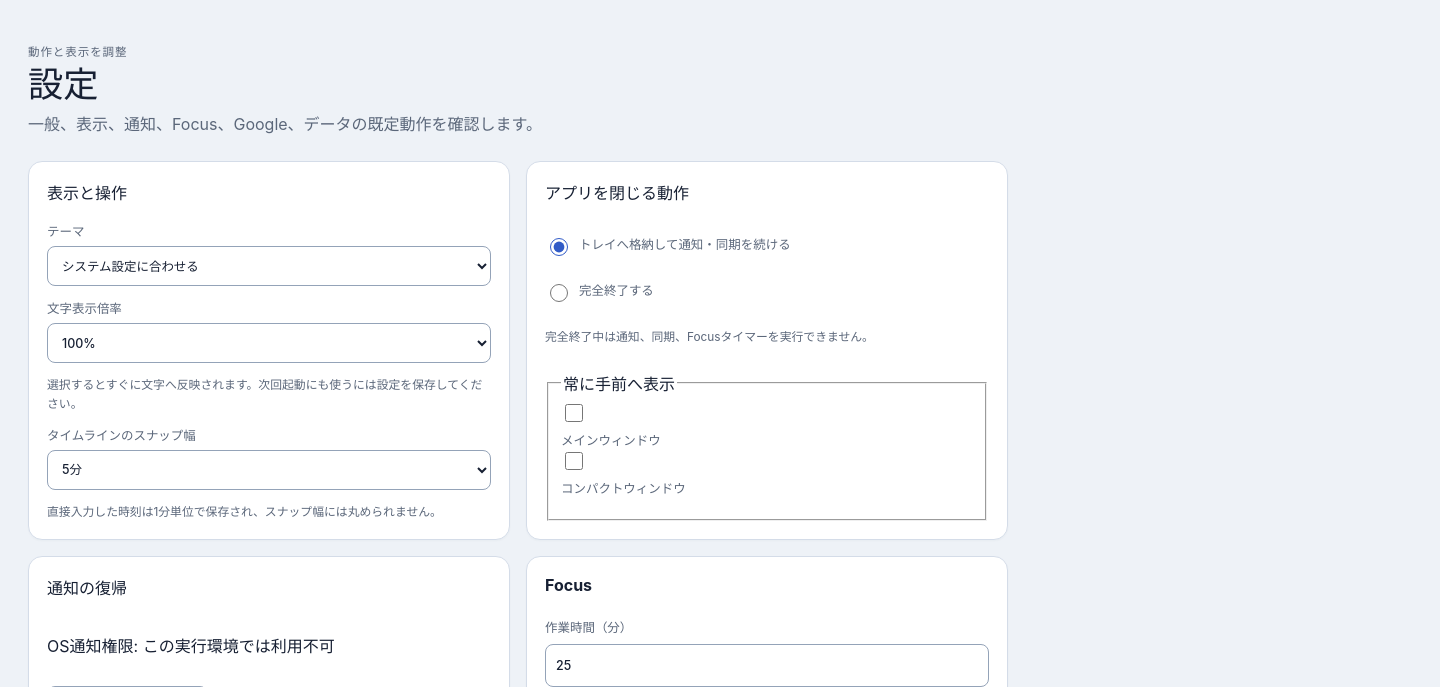
Test: Settings save feedback › clears stale success, retains input and preview after failure, and allows retry
Step 1. Select "250%" in the dropdown labelled "文字表示倍率" → coordinates (269, 343), box [47,323,491,363]
(page scrolled)
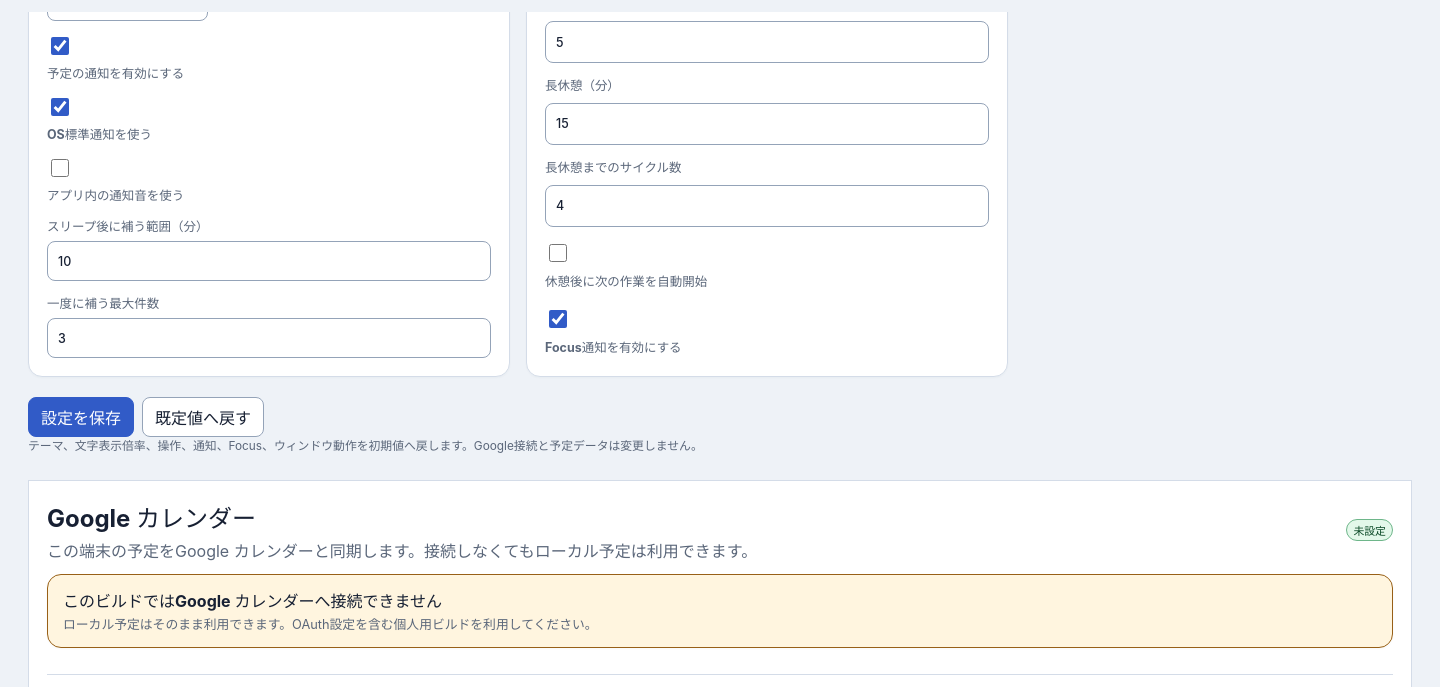
Step 2. Click the button "設定を保存" → coordinates (81, 417), box [28,397,134,437]
(page scrolled)
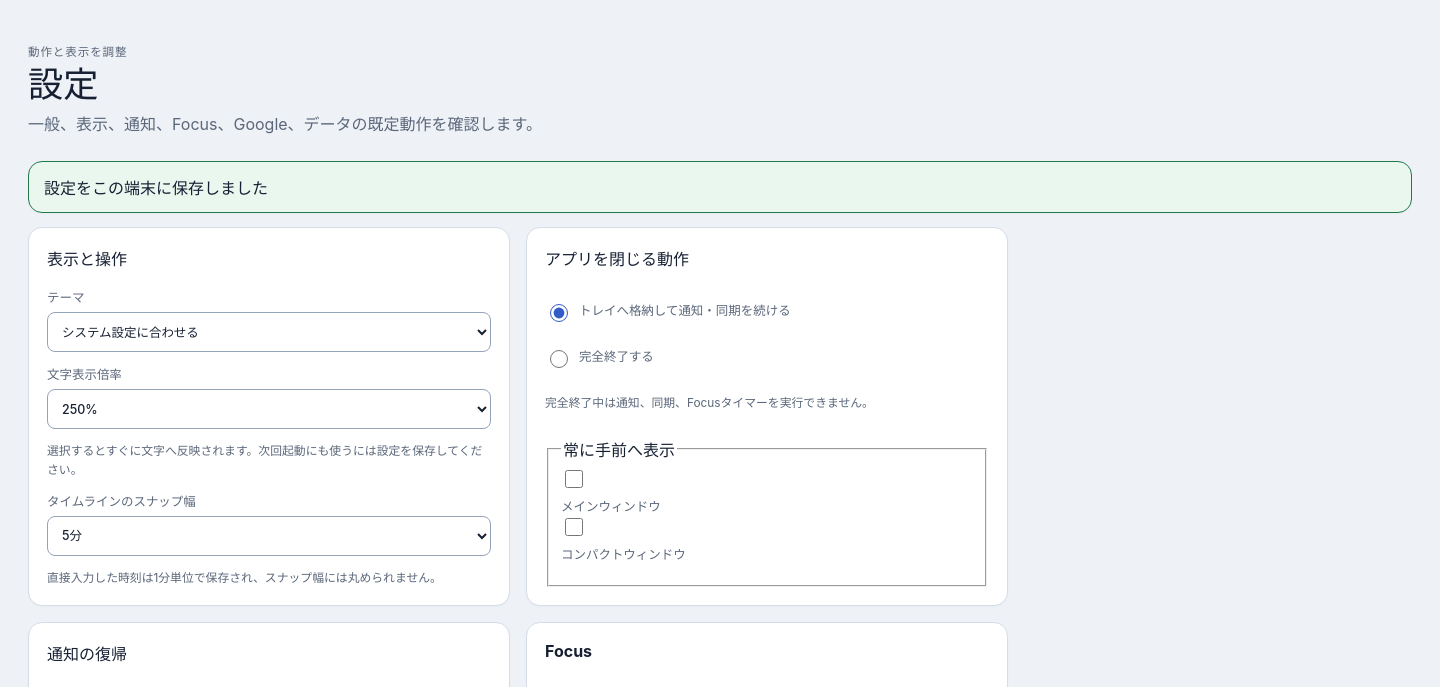
Now the text "設定をこの端末に保存しました" is shown, box [44,178,268,198]
Step 3. Select "200%" in the dropdown labelled "文字表示倍率" → coordinates (269, 409), box [47,389,491,429]
(page scrolled)
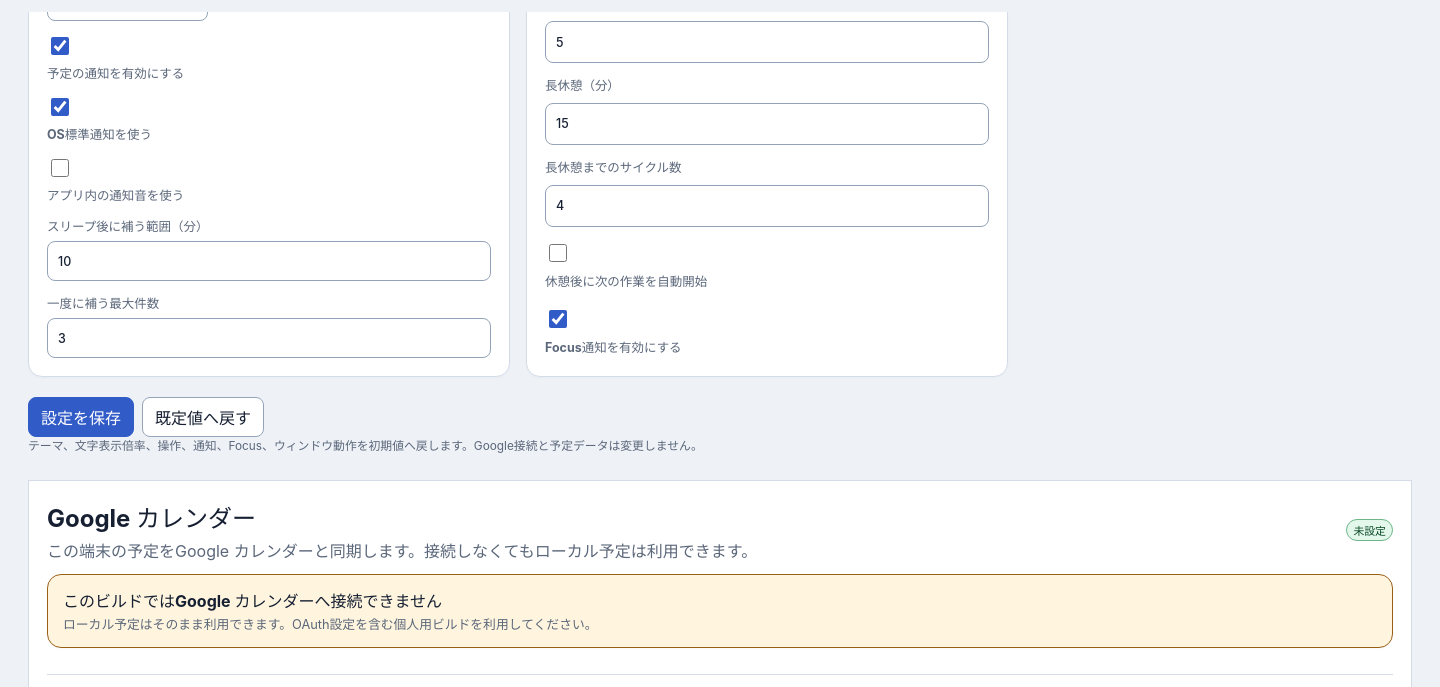
Step 4. Click the button "設定を保存" → coordinates (81, 417), box [28,397,134,437]
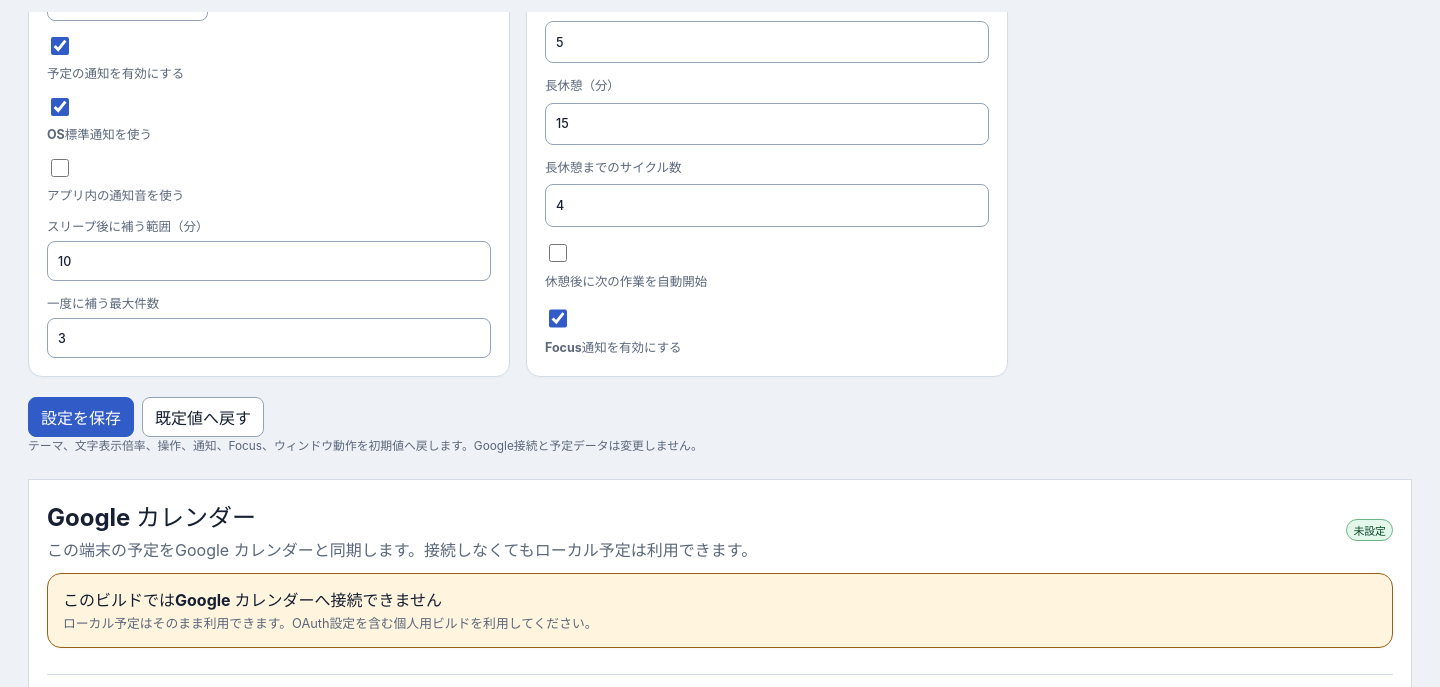
Expected: the text "設定をこの端末に保存しました" is not shown
Step 5. Click the button "設定を保存" → coordinates (81, 417), box [28,397,134,437]
(page scrolled)
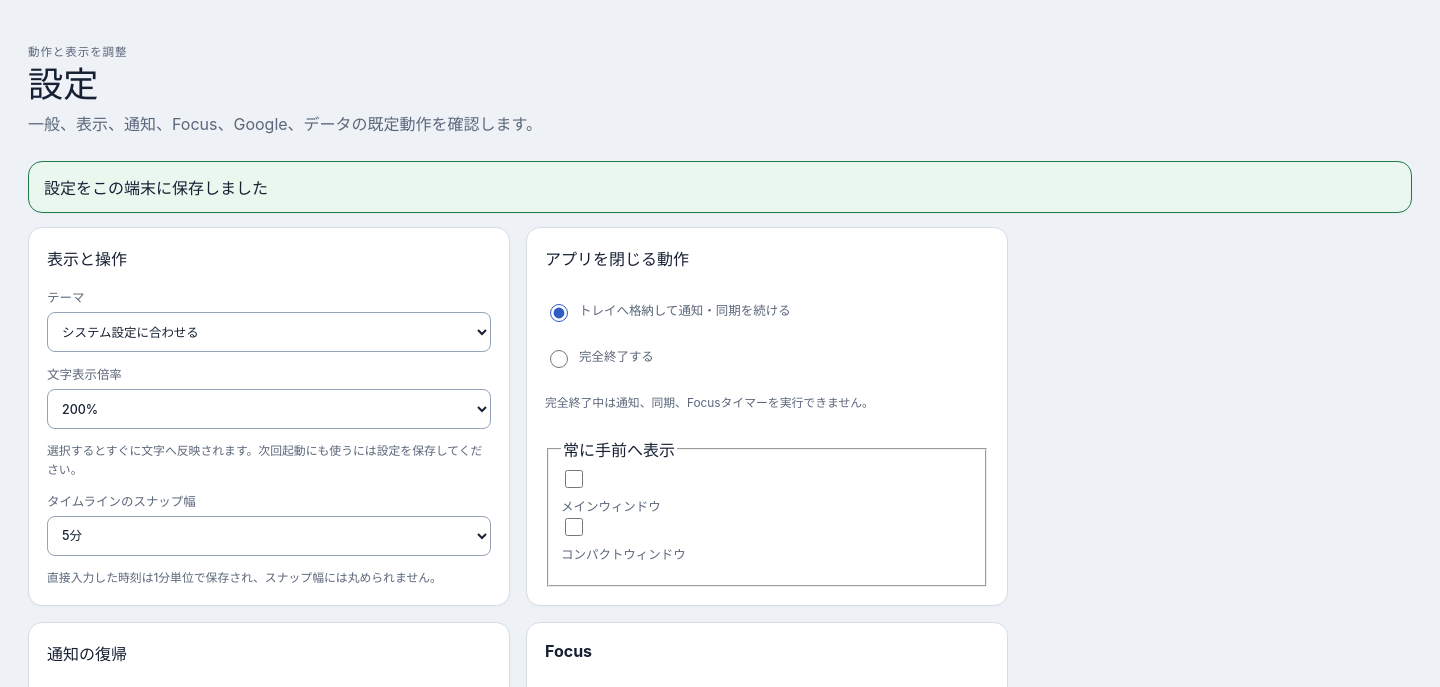
Now the text "設定をこの端末に保存しました" is shown, box [44,178,268,198]
